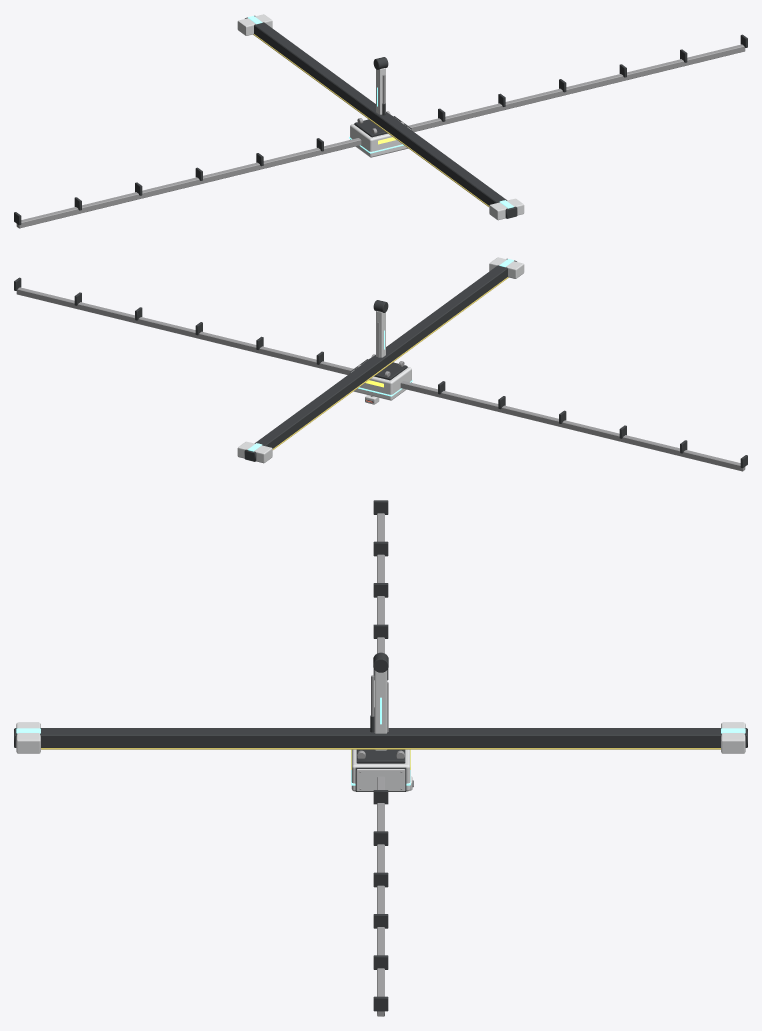
File: sorter.glb
The picture shows the model from 3 angles, top to bottom: view 1: azimuth 30°, elevation 25°; view 2: azimuth 150°, elevation 25°; view 3: azimuth 270°, elevation 25°; orthographic projection. The views are drawn at different scales.
Visible parts, largest first — view 1: rail, bridge, carriage, arm_upper; view 2: rail, bridge, carriage, arm_upper; view 3: bridge, rail, arm_upper, carriage, plate.
Part boxes in pixels (x1,y1,x2,y2): rail: [14, 34, 747, 228]; bridge: [237, 14, 524, 220]; carriage: [349, 111, 411, 157]; arm_upper: [373, 57, 388, 115]; rail: [14, 277, 747, 471]; bridge: [237, 257, 524, 463]; carriage: [350, 354, 412, 400]; arm_upper: [373, 300, 388, 357]; bridge: [14, 722, 747, 753]; rail: [373, 500, 388, 1016]; arm_upper: [370, 652, 388, 750]; carriage: [351, 749, 410, 791]; plate: [355, 767, 406, 791].
Size of the model in its own units: 24.08 by 3 by 15.
